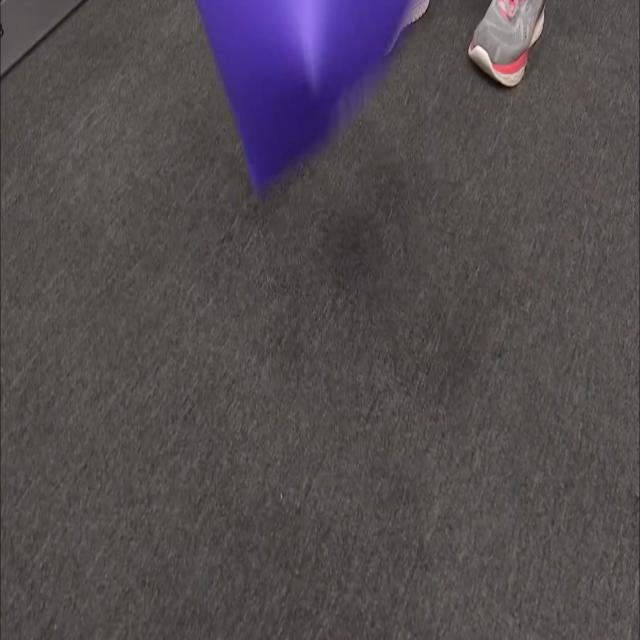frc_cube: (190, 0, 428, 194)
